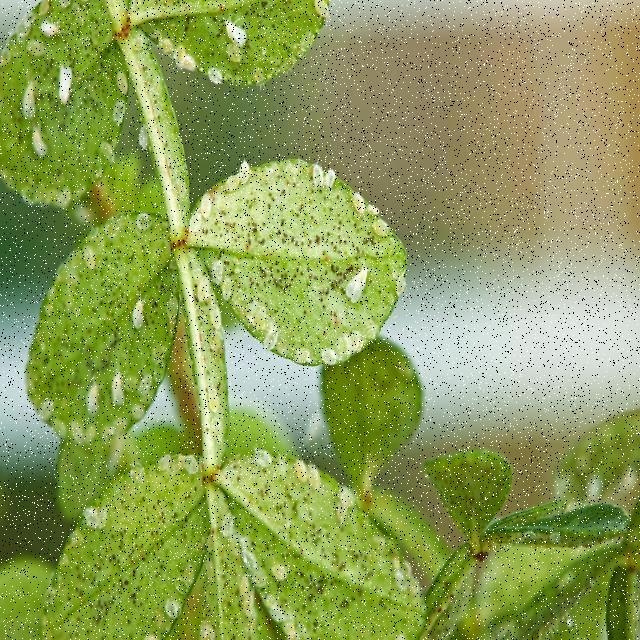Whiteflies: (336, 235, 374, 313), (21, 109, 57, 168), (214, 10, 255, 55), (51, 52, 77, 114), (17, 74, 47, 123), (108, 360, 132, 417), (125, 290, 155, 335), (86, 371, 105, 423)
